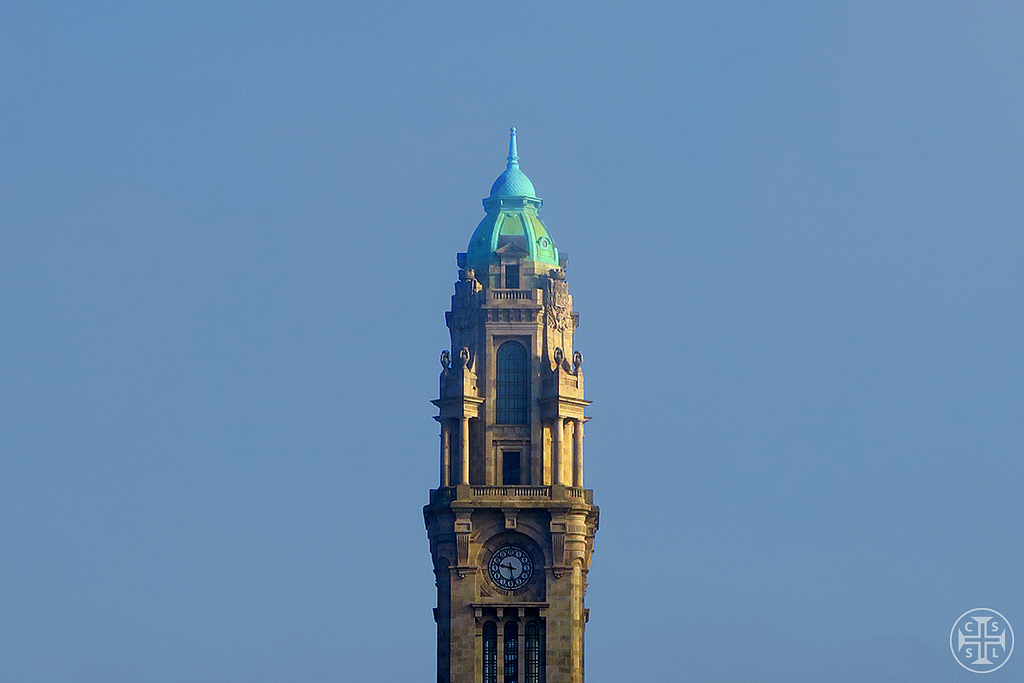camara: (422, 126, 600, 682)
